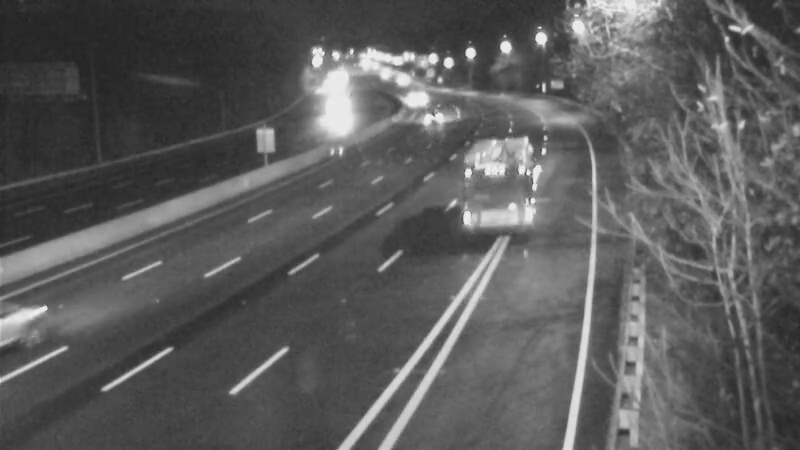vehicle: (454, 120, 534, 200), (389, 75, 439, 125), (410, 91, 460, 141), (307, 86, 357, 136)
